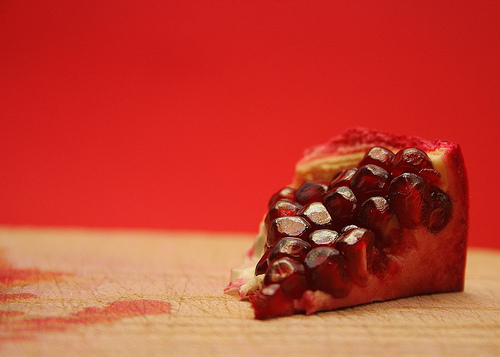pomogranate: (225, 126, 467, 320)
